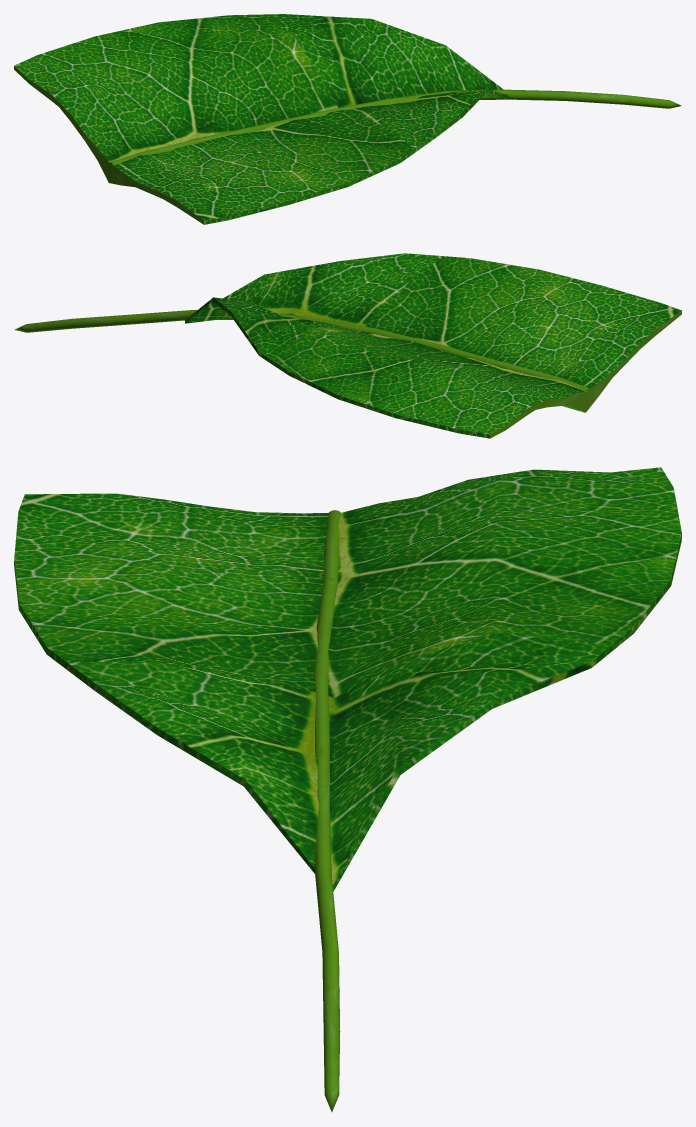
The model's file is Daun_Setengah.fbx.
3 renders of one model, top to bottom at view 1: azimuth 30°, elevation 25°; view 2: azimuth 150°, elevation 25°; view 3: azimuth 270°, elevation 25°, orthographic. The views are drawn at different scales.
Parts seen in each view (by area): view 1: Daun.001; view 2: Daun.001; view 3: Daun.001.
Part boxes in pixels (left/top/right/bottom): Daun.001: left=14, top=14, right=681, bottom=224; Daun.001: left=14, top=253, right=681, bottom=438; Daun.001: left=14, top=467, right=681, bottom=1112.
Size of the model in its own units: 165 by 33.73 by 100.
Materials: 1 (1 with a texture image).
